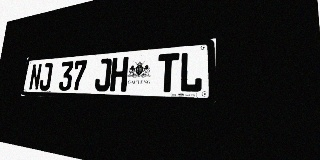3: (58, 61, 74, 91)
7: (71, 60, 87, 91)
H: (110, 57, 129, 92)
J: (94, 58, 112, 91), (39, 63, 53, 91)
L: (179, 51, 203, 93)
N: (28, 63, 42, 90)
T: (157, 53, 179, 92)
